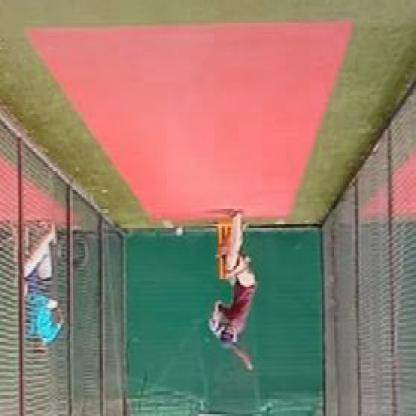ball: (174, 220, 186, 238)
